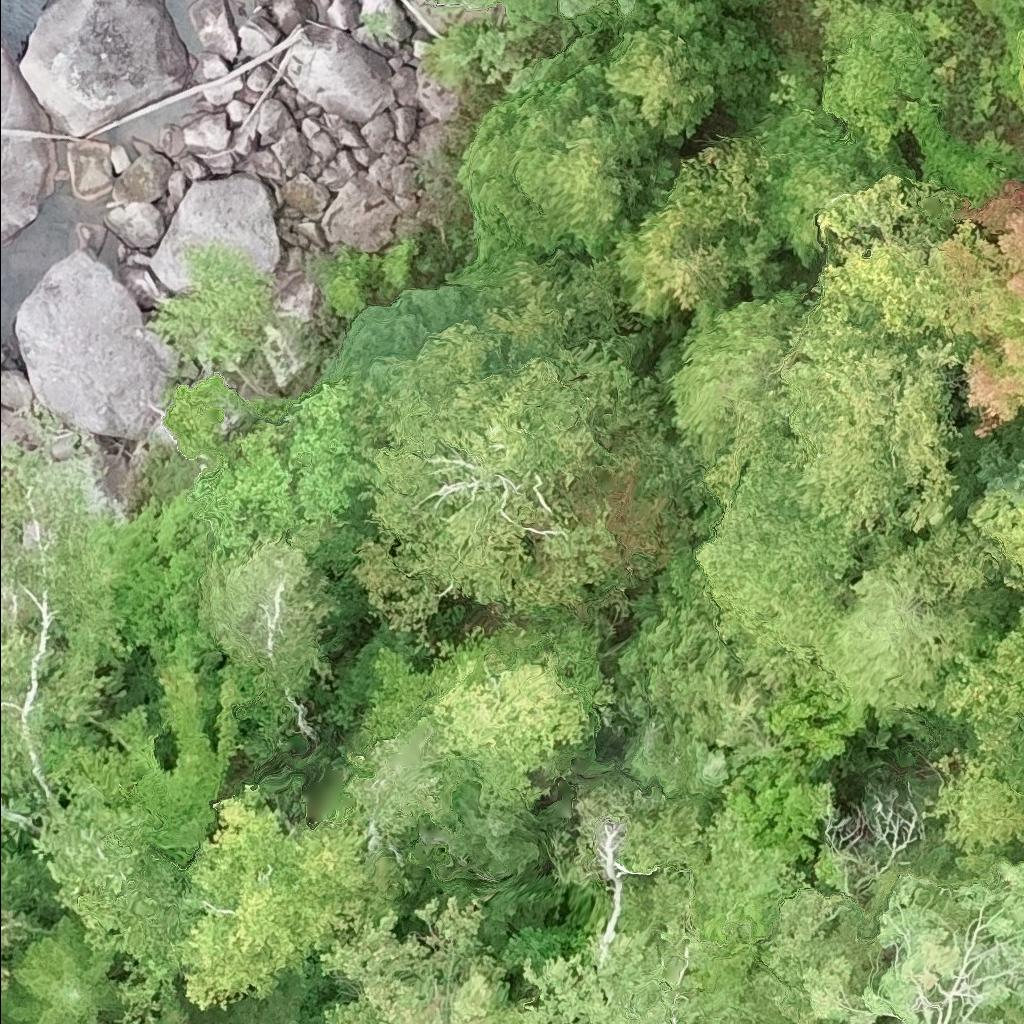crown: (351, 271, 639, 639), (754, 278, 963, 544), (817, 495, 1023, 719), (176, 782, 370, 1012), (750, 862, 1023, 1023), (520, 868, 757, 1023), (67, 657, 243, 861), (504, 62, 677, 261), (664, 287, 802, 509), (31, 785, 189, 967), (307, 895, 527, 1023), (421, 649, 586, 809), (694, 501, 853, 667), (928, 180, 1023, 436), (931, 608, 1023, 849), (196, 533, 337, 676), (821, 0, 937, 160), (341, 713, 467, 838), (609, 195, 738, 317), (599, 25, 720, 145), (572, 772, 704, 880), (0, 909, 122, 1023), (720, 748, 826, 861), (947, 410, 1023, 519), (210, 972, 312, 1023), (671, 740, 730, 816), (971, 489, 1023, 567), (422, 0, 600, 19), (140, 993, 196, 1023), (988, 0, 1023, 30), (1012, 23, 1023, 70), (621, 0, 642, 12), (1023, 465, 1023, 466)
